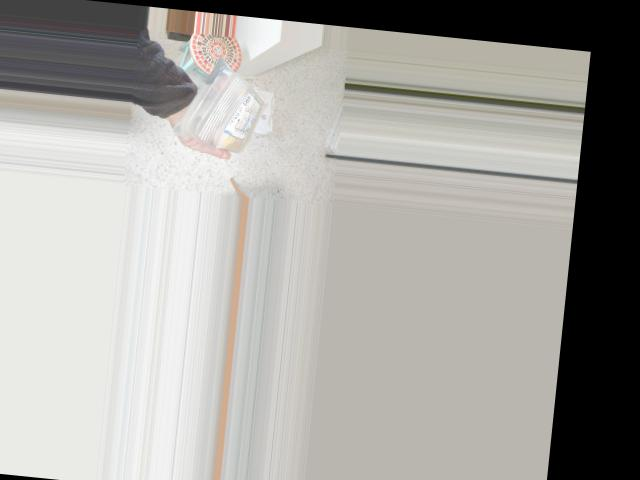cheese: (171, 48, 286, 154)
